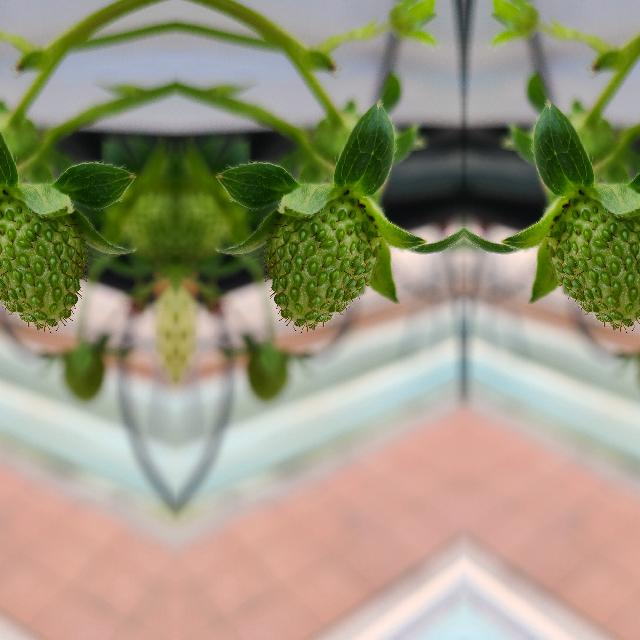Health_25: (264, 196, 380, 328), (546, 196, 640, 328), (0, 196, 85, 328)
